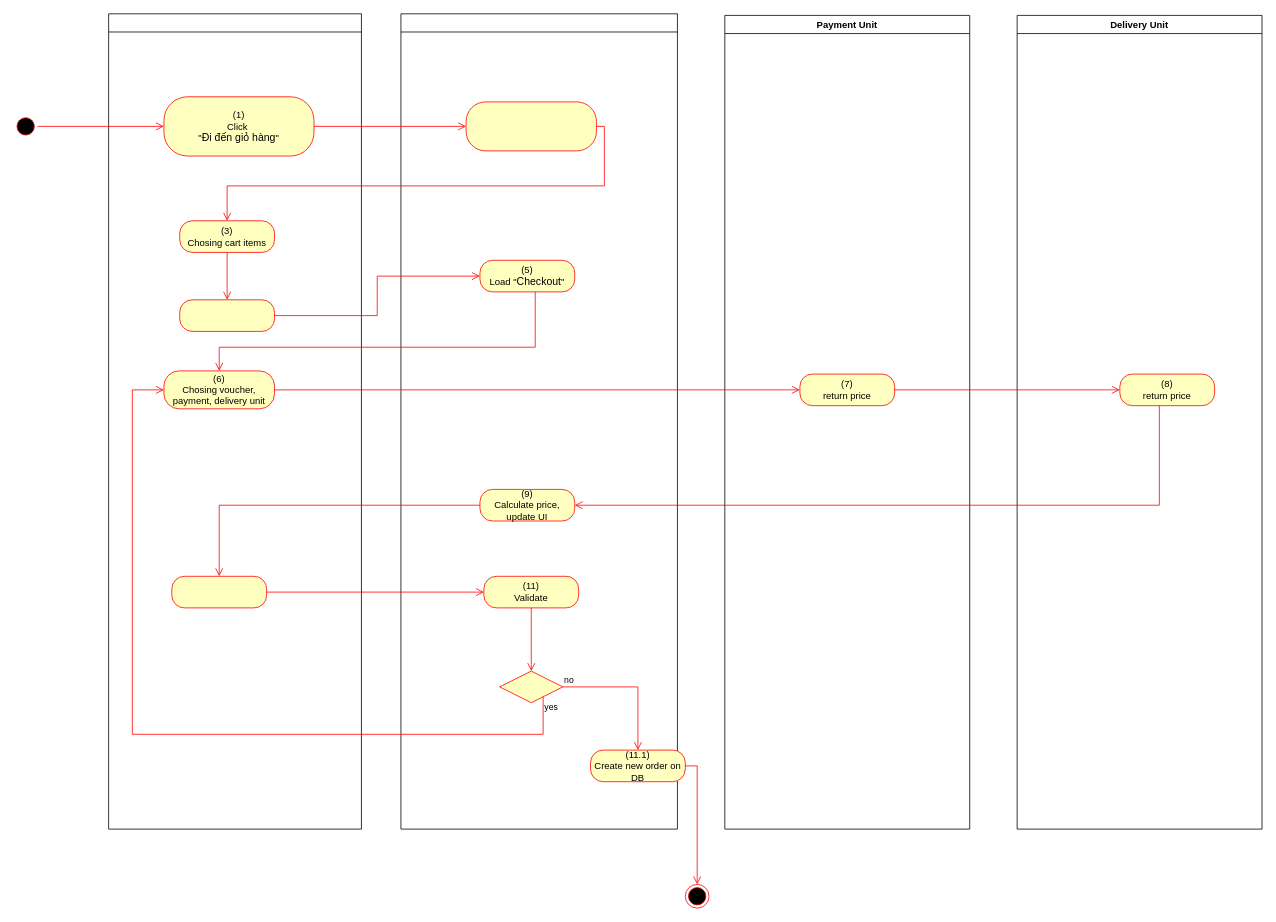
This 1276x922 diagram has some shape labels left out. Here are the shapes that lost their labels. From the top down, the box of each, then its label:
(465, 101, 596, 151): (2) Load " Cart " Screen
(179, 299, 275, 331): (4) Click "Tạo đơn hàng"
(108, 13, 361, 829): User
(400, 13, 677, 829): System
(171, 576, 267, 608): (10) Click "Đặt hàng"
(499, 670, 563, 703): Condition
